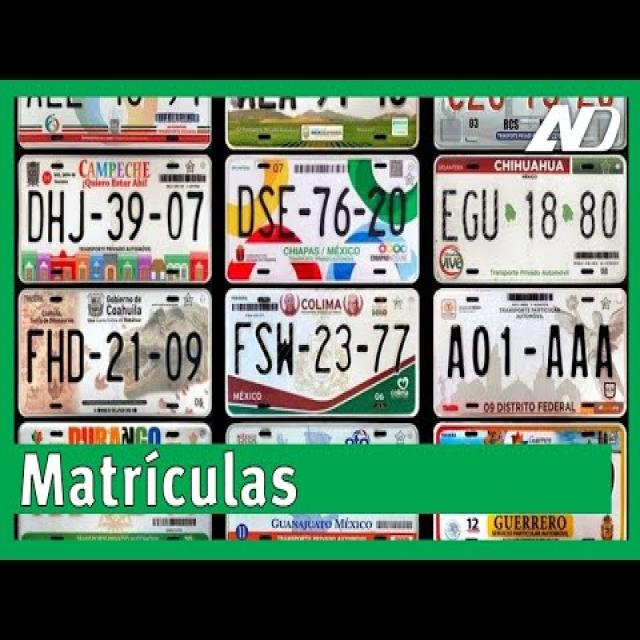placa: (17, 322, 212, 386), (225, 314, 420, 378), (436, 319, 629, 383), (434, 180, 626, 242), (20, 184, 209, 246), (226, 182, 419, 238)
